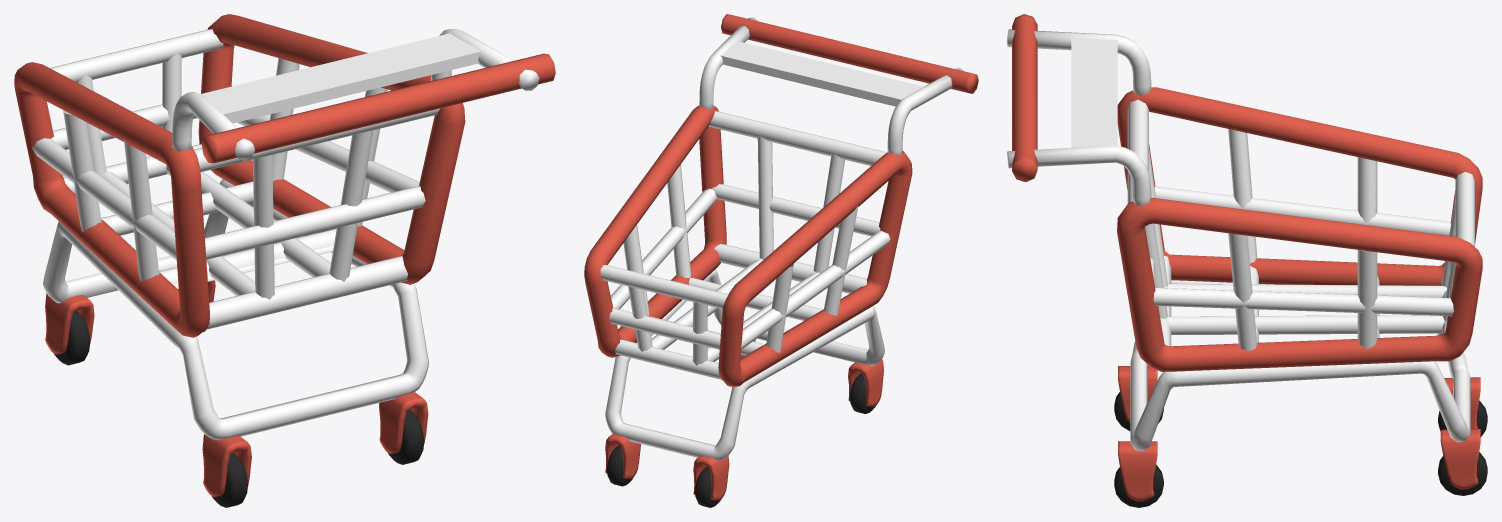
Rendered from Cart.fbx.
3 renders of one model, left to right at view 1: azimuth 30°, elevation 25°; view 2: azimuth 150°, elevation 25°; view 3: azimuth 270°, elevation 25°, orthographic. The views are drawn at different scales.
Parts seen in each view (by area): view 1: Cart; view 2: Cart; view 3: Cart.
Part boxes in pixels (x1=…): Cart: x1=14, y1=14, x2=555, y2=507; Cart: x1=584, y1=14, x2=978, y2=507; Cart: x1=1007, y1=14, x2=1487, y2=507.
Size of the model in its own units: 249 by 306 by 349.
